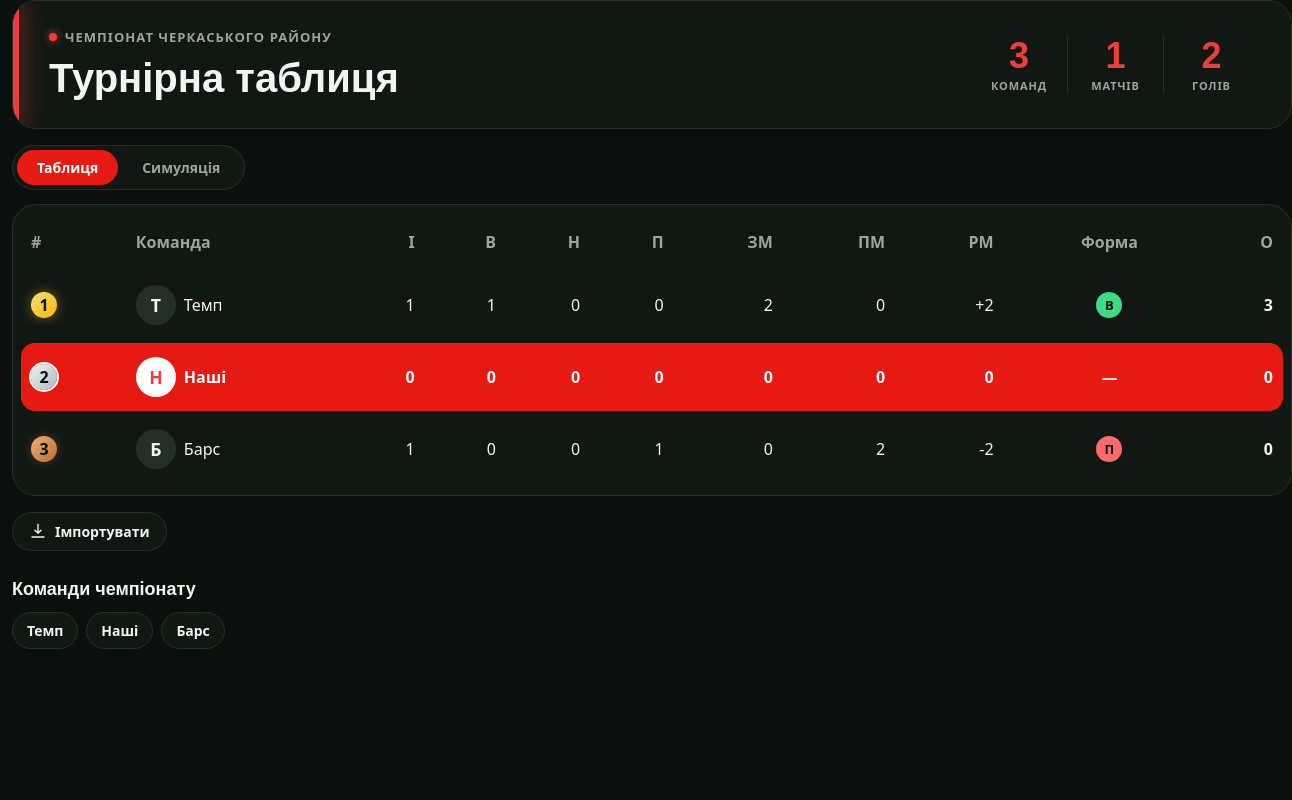
StandingsPage simulation › shows the planned matches in the simulation, with the table at the top and no Import
The image size is (1292, 800).
Click the button "Симуляція".
click(181, 167)  # box [122,150,240,185]
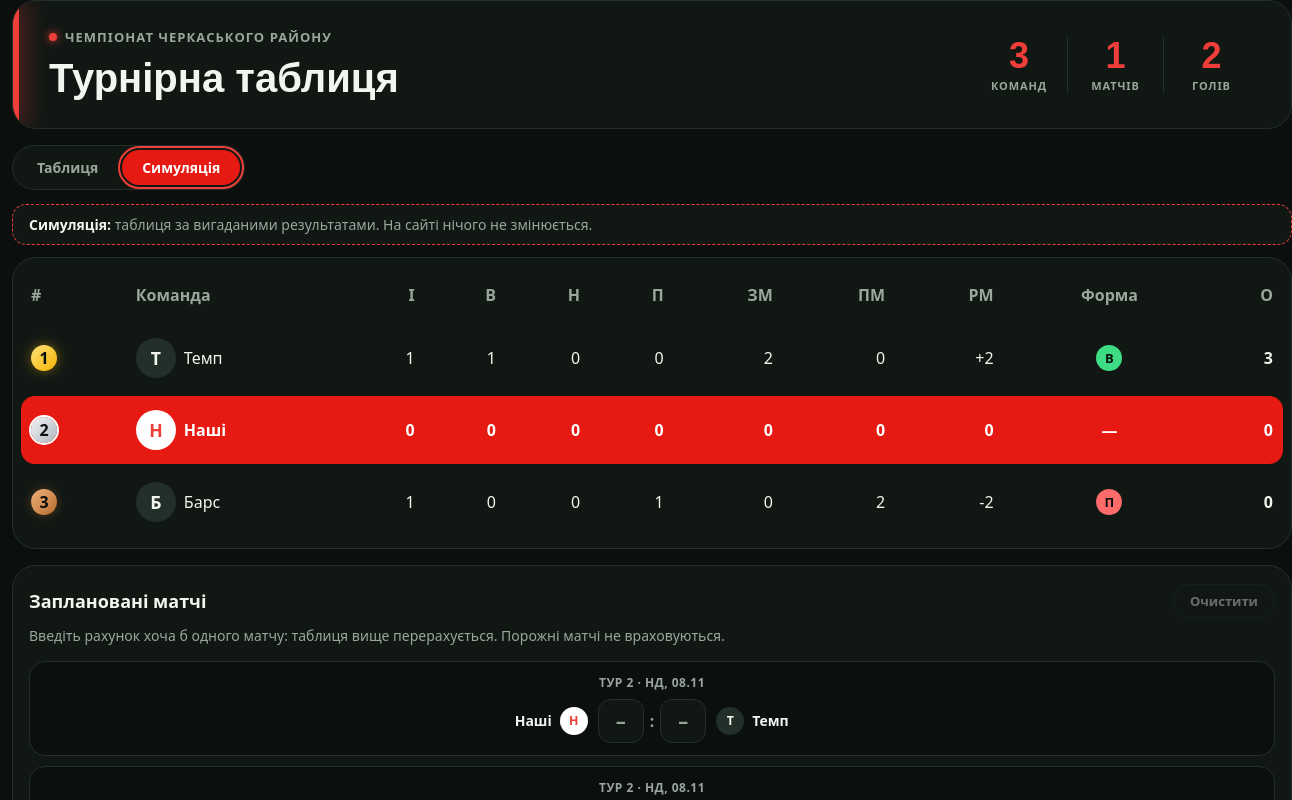
Check: the heading "Заплановані матчі" is shown, box [29,590,206,614]
Check: the number of fields is 4
Check: the button "Імпортувати" is gone
